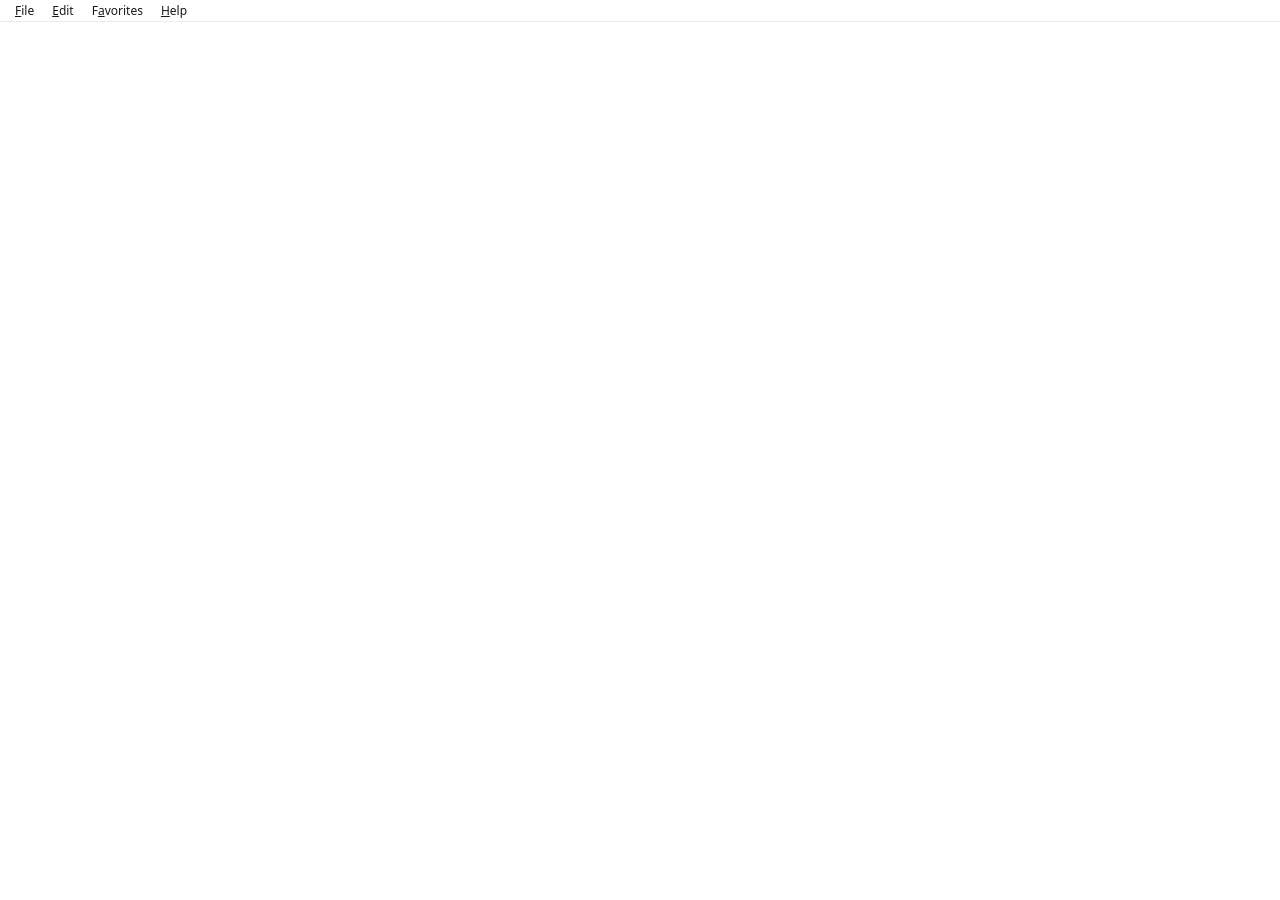
Test: Favorites › makes a folder from Add to Favorites, files the page in it and shows a submenu
Click the button "Favorites".
click(117, 10)  # box top-left (83, 0), bottom-right (152, 20)
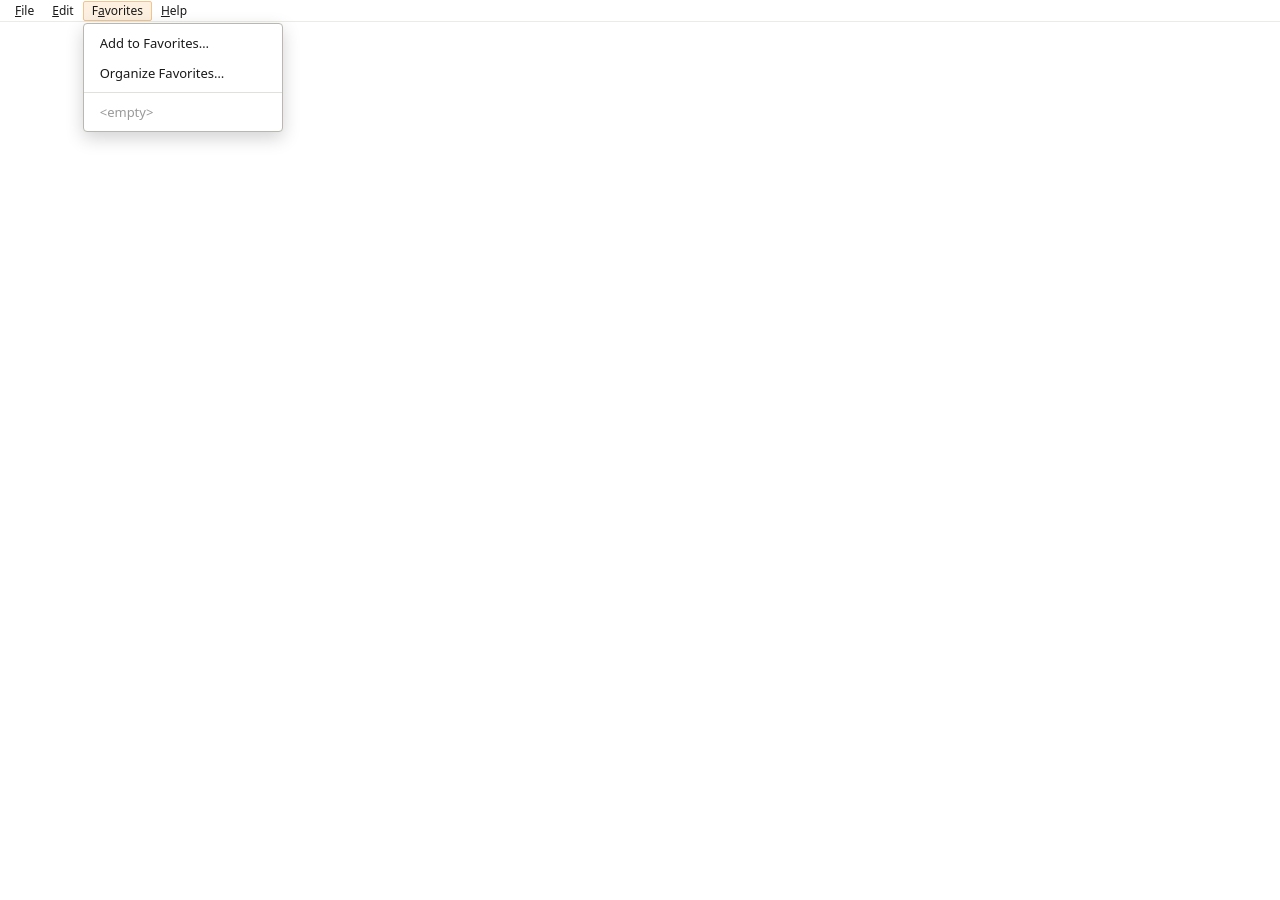
Click the menu item "Add to Favorites…".
click(183, 42)  # box top-left (84, 28), bottom-right (282, 58)
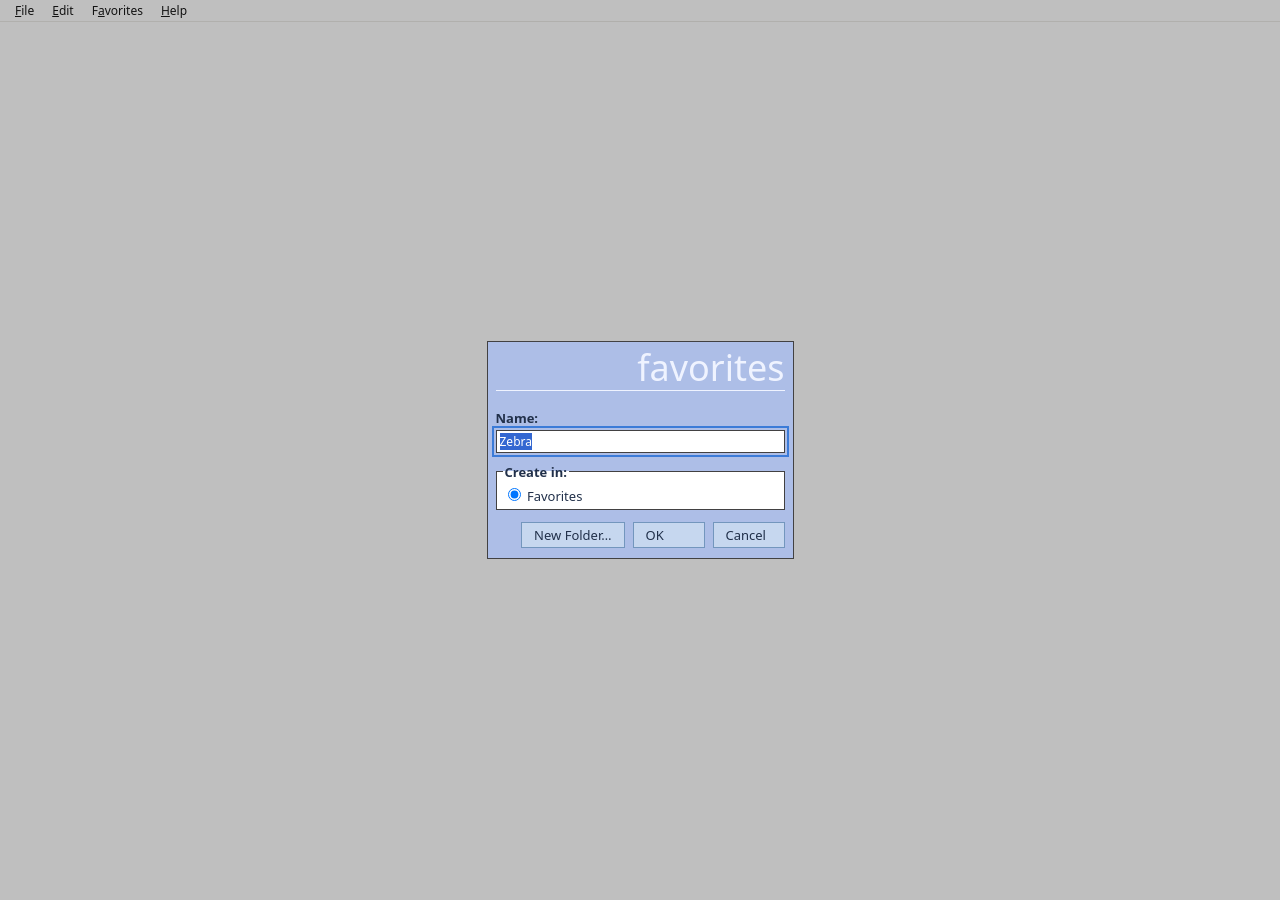
Click the button "New Folder…".
click(573, 535)  # box top-left (521, 522), bottom-right (624, 548)
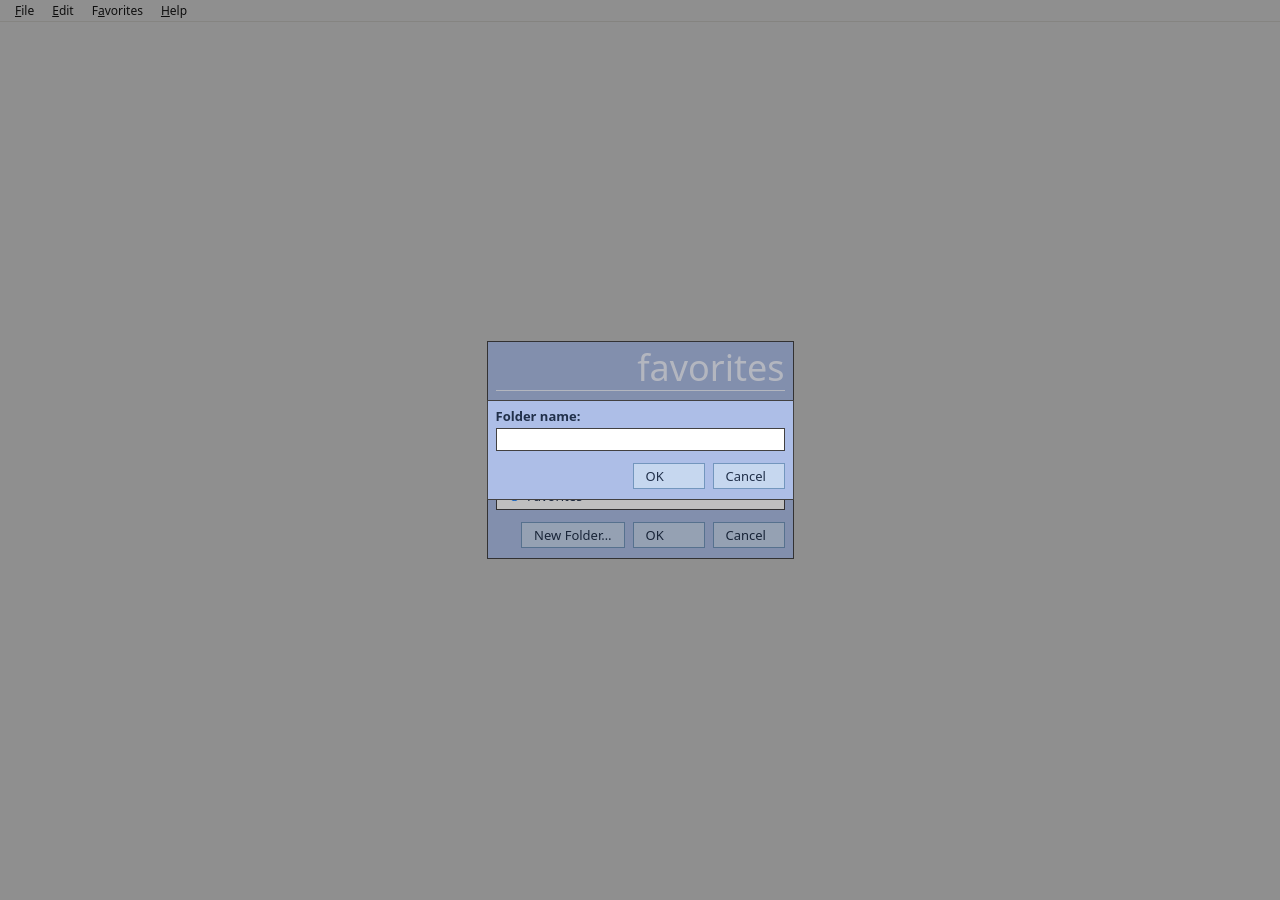
Type "Animals" into the field labelled "Folder name:".
click(640, 440); type("Animals")  # box top-left (496, 428), bottom-right (784, 451)
Click the button "OK".
click(668, 476)  # box top-left (632, 463), bottom-right (704, 489)
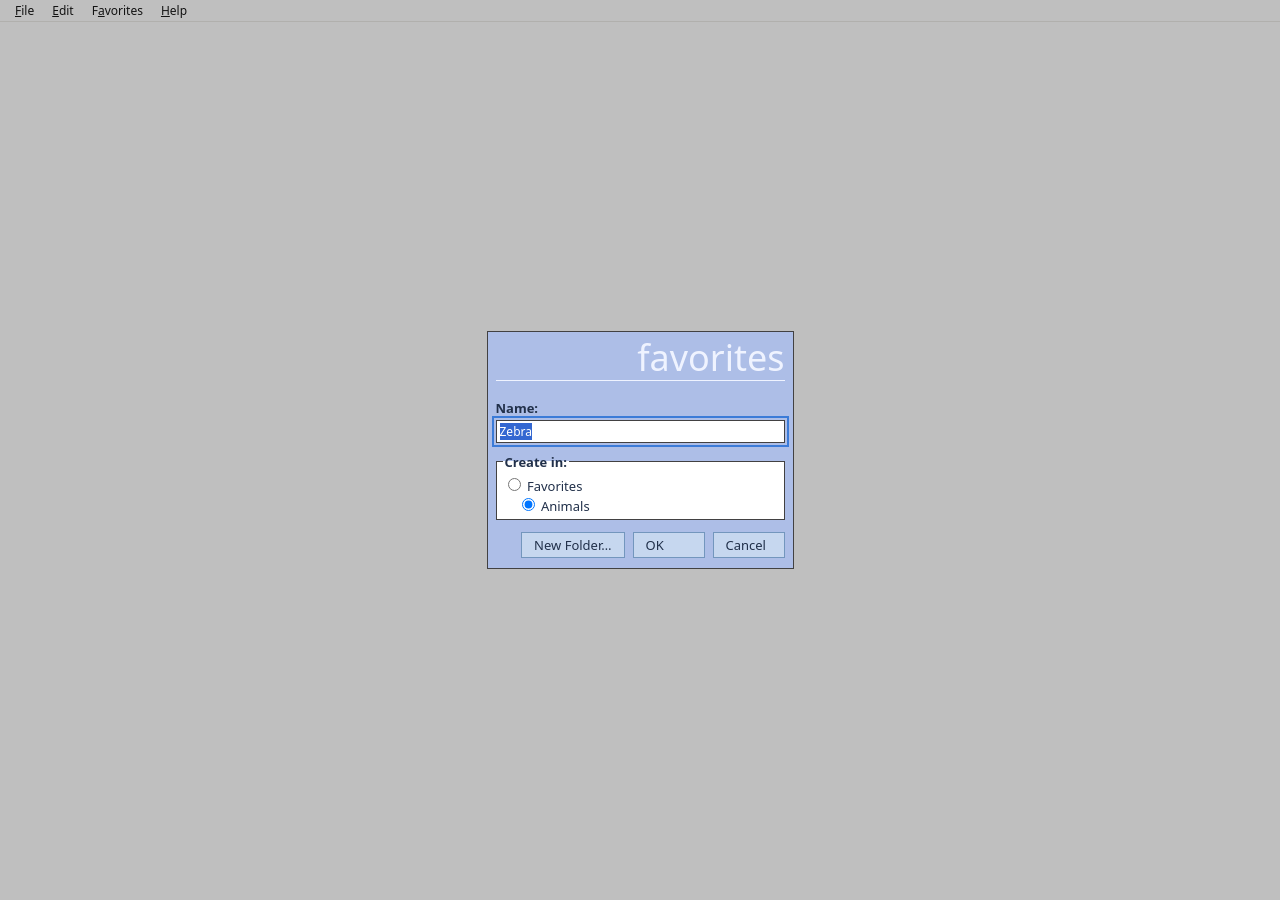
expect the radio button labelled "Animals" is checked: met, box top-left (522, 498), bottom-right (534, 511)
Click the button "OK".
click(668, 545)  # box top-left (632, 532), bottom-right (704, 558)
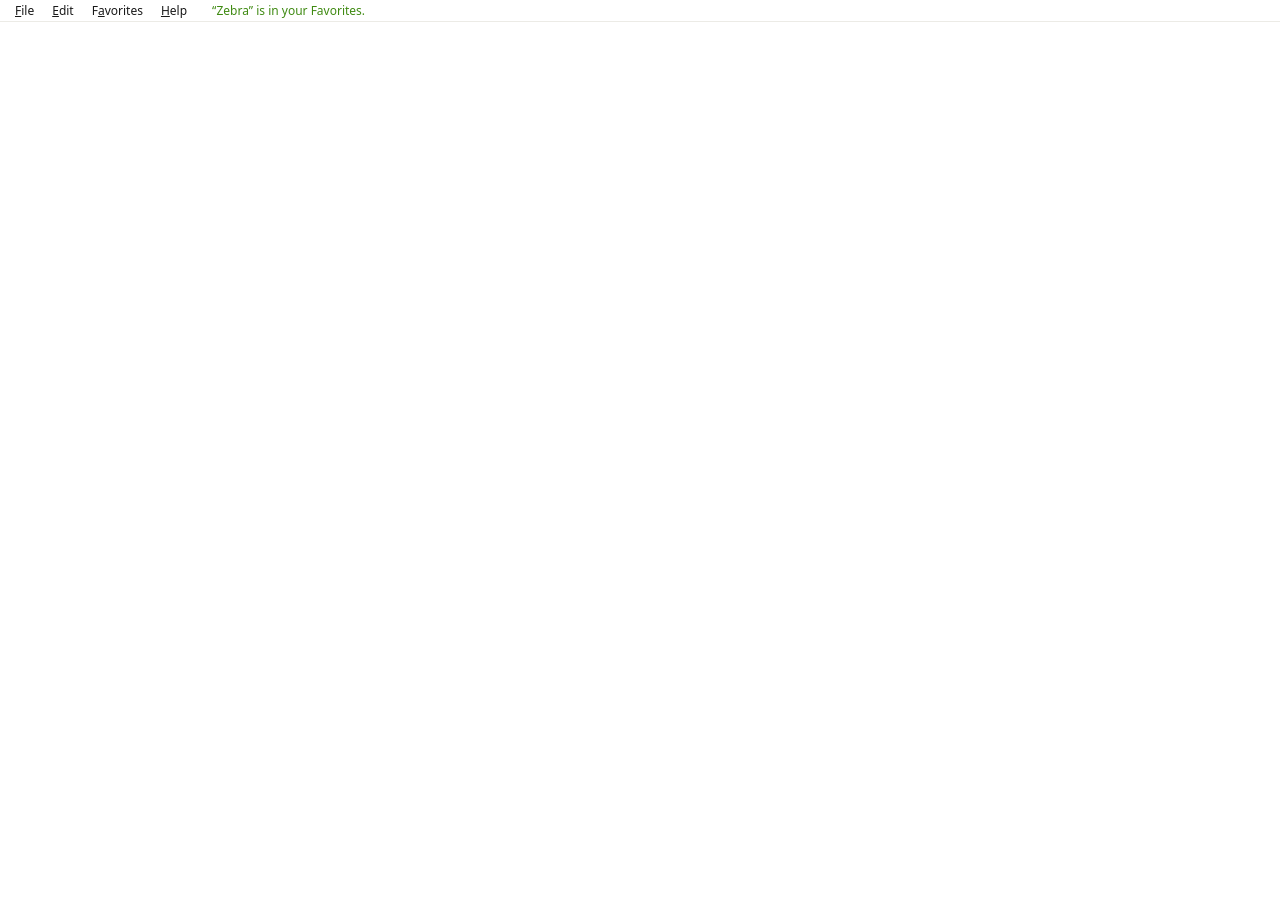
Click the button "Favorites".
click(117, 10)  # box top-left (83, 0), bottom-right (152, 20)
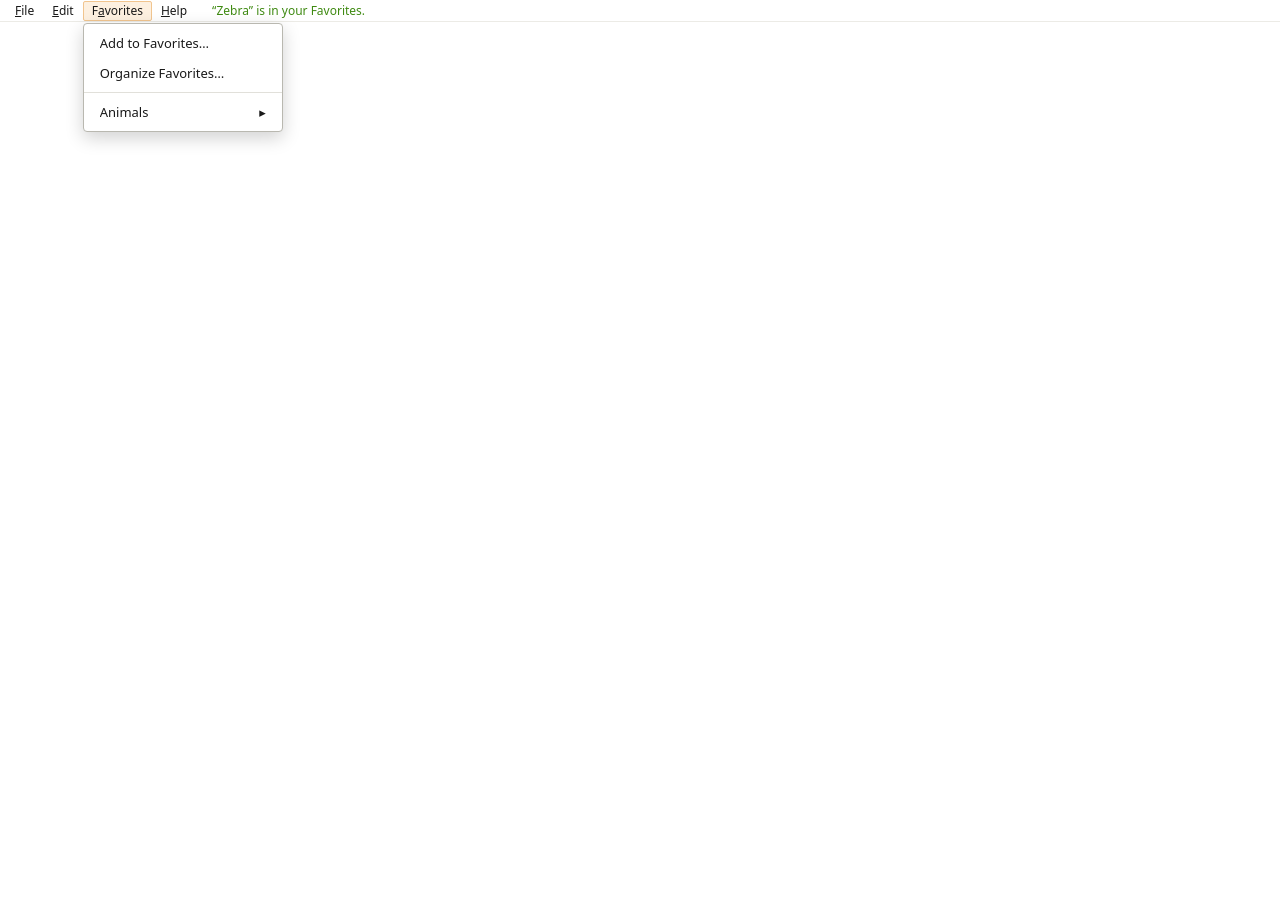
expect the menu item "Animals ▸" is shown: met, box top-left (84, 96), bottom-right (282, 126)
